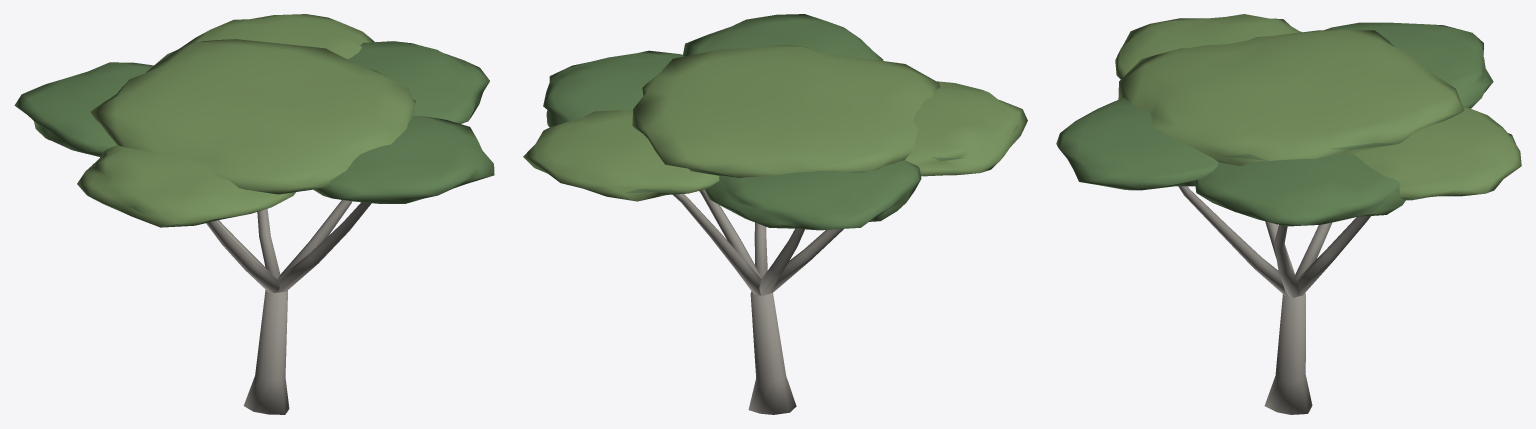
The model's file is v_tree_acacia.glb.
3 renders of one model, left to right at view 1: azimuth 30°, elevation 25°; view 2: azimuth 150°, elevation 25°; view 3: azimuth 270°, elevation 25°, orthographic. The views are drawn at different scales.
Visible parts, largest first — view 1: Acacia; view 2: Acacia; view 3: Acacia.
Part boxes in pixels (x1,y1,x2,y2): Acacia: (14,14,494,414); Acacia: (523,14,1027,414); Acacia: (1056,14,1521,414).
Size of what is drawn, in the model's own units: 8.06 by 5.77 by 7.57.
